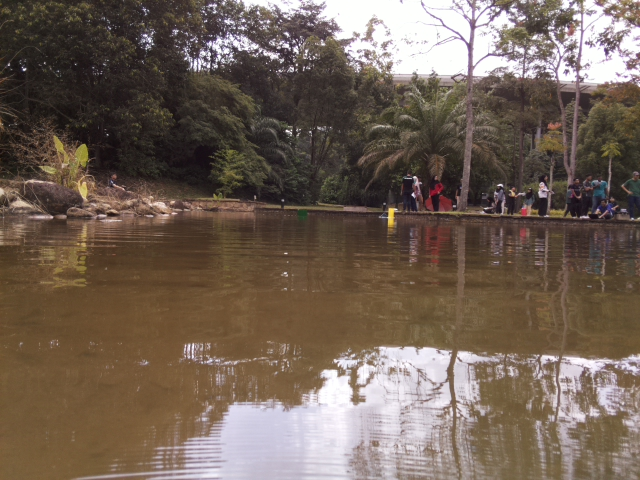obstacle: (296, 208, 308, 217)
